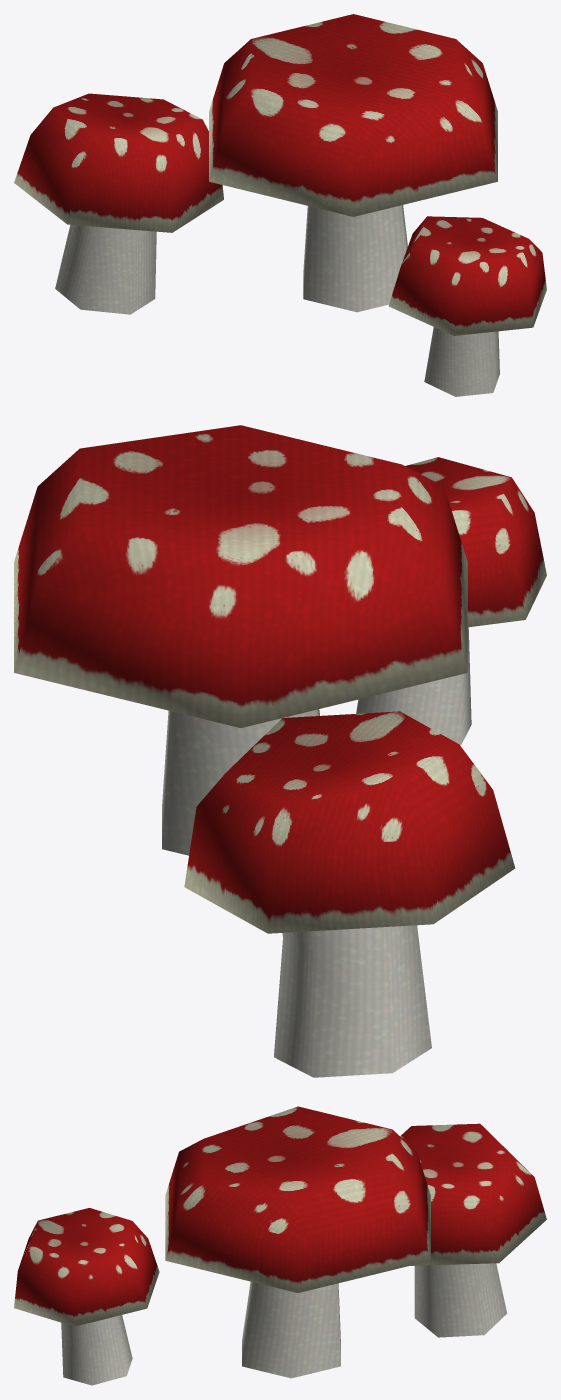
The model's file is Red Cap.fbx.
The picture shows the model from 3 angles, top to bottom: view 1: azimuth 30°, elevation 25°; view 2: azimuth 150°, elevation 25°; view 3: azimuth 270°, elevation 25°; orthographic projection. The views are drawn at different scales.
Parts seen in each view (by area): view 1: Cylinder027; view 2: Cylinder027; view 3: Cylinder027.
Part boxes in pixels (x1,y1,x2,y2): Cylinder027: (14,14,546,396); Cylinder027: (14,425,546,1077); Cylinder027: (14,1106,546,1385).
Size of the model in its own units: 82.58 by 54.82 by 110.
